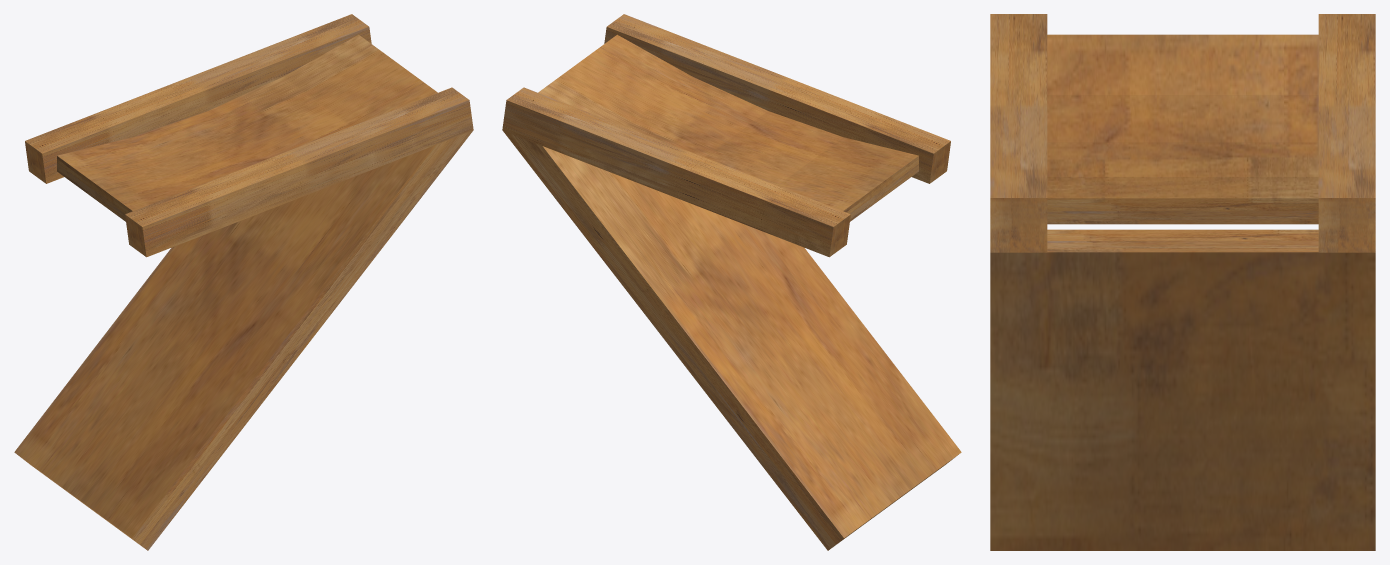
The model's file is saka.fbx.
3 renders of one model, left to right at view 1: azimuth 30°, elevation 25°; view 2: azimuth 150°, elevation 25°; view 3: azimuth 270°, elevation 25°, orthographic. The views are drawn at different scales.
Visible parts, largest first — view 1: 立方体.003; view 2: 立方体.003; view 3: 立方体.003.
Boxes of the visible parts, x1,y1,x2,y2 form: 立方体.003: (14, 14, 473, 550); 立方体.003: (502, 14, 961, 550); 立方体.003: (990, 14, 1375, 550).
Size of the model in its own units: 906 by 943 by 540.
